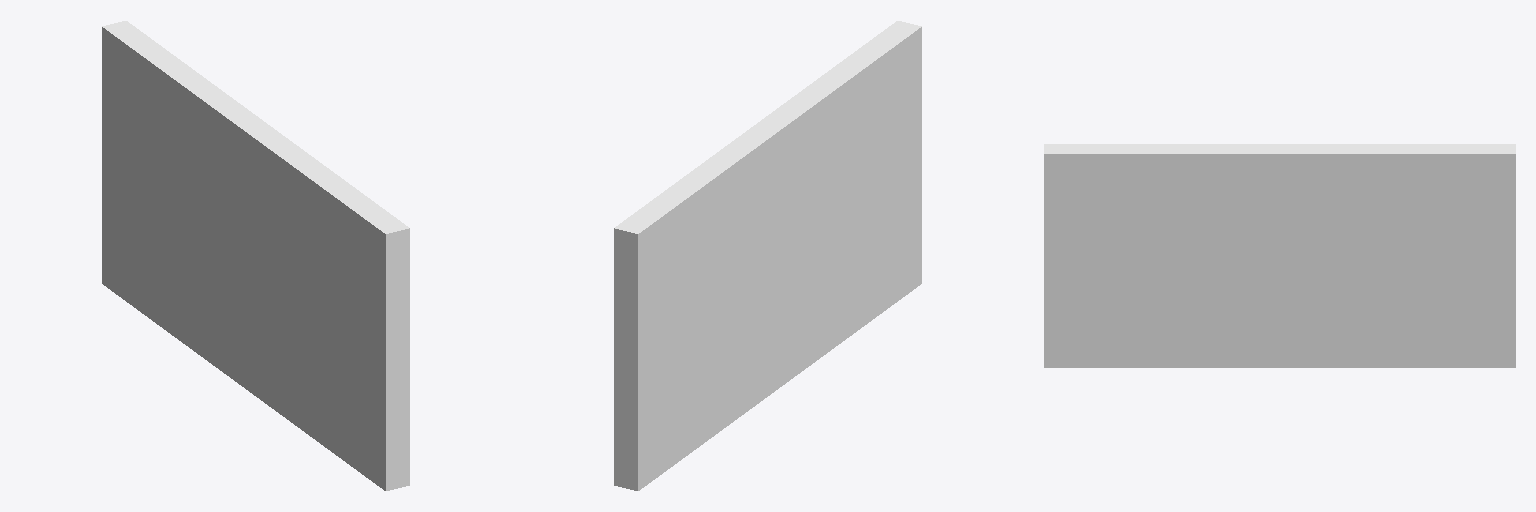
URDF robot description (slab):
<robot name="slab">
  <link name="slab">

    <inertial>
      <origin xyz="0 0 0" />
      <mass value="0.1" />
      <inertia  ixx="0.00003375" ixy="0.0"  ixz="0.0"  iyy="0.00003375"  iyz="0.0"  izz="0.00003375" />
    </inertial>

    <visual>
      <origin xyz="0 0 0"/>
      <geometry>
        <box size="0.02 0.4 0.2" />
      </geometry>
      <material name="white">
        <color rgba="1.0 1.0 1.0 1.0"/>
      </material>
    </visual>

    <collision>
      <origin xyz="0 0 0"/>
      <geometry>
        <box size="0.02 0.3 0.2" />
      </geometry>
    </collision>
  </link>
</robot>

--- Facts derived from the render (not from the file) ---
Views: 3 orthographic renders of the robot side by side, from view 1: azimuth 30°, elevation 25°; view 2: azimuth 150°, elevation 25°; view 3: azimuth 270°, elevation 25°.
Robot: slab — 1 links, 0 joints (none); root link slab; default pose: all joints at 0.
Visible links, largest first — view 1: slab; view 2: slab; view 3: slab.
Link boxes in pixels (x1,y1,x2,y2): slab: (102,21,409,490); slab: (614,21,921,490); slab: (1044,144,1515,367).
Size in the robot's own frame: 0.02 by 0.4 by 0.2 metres.
Geometry: primitives only (box / cylinder / sphere), no mesh files.